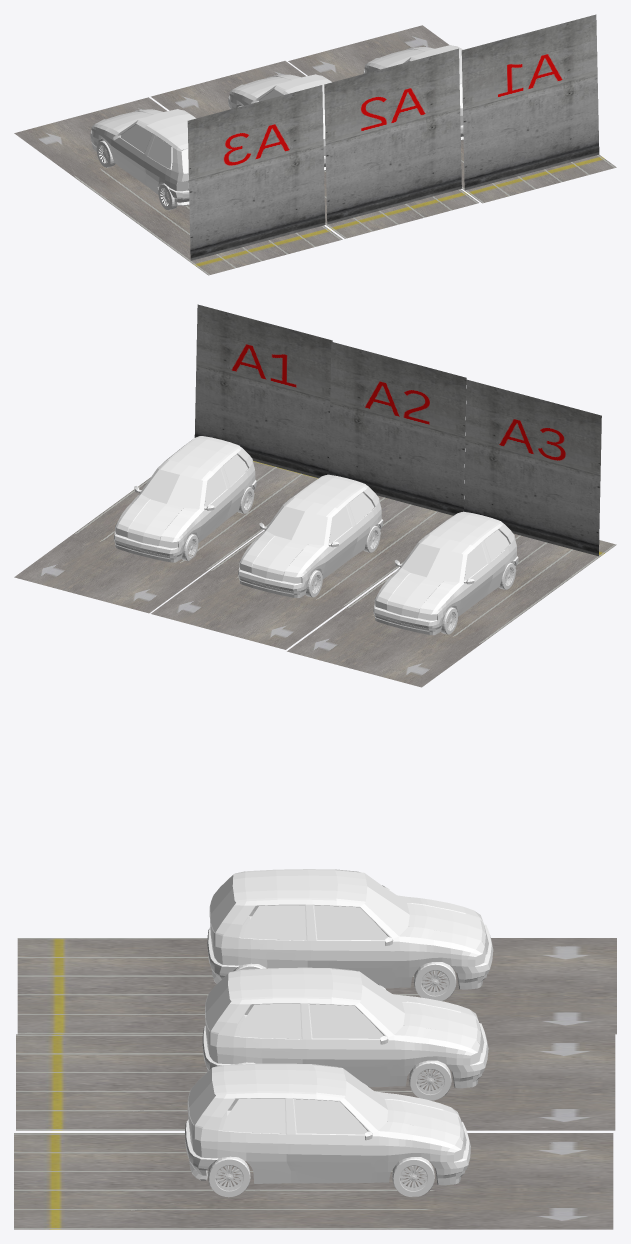
The model's file is smart.glb.
3 views of the same model, one above another, from view 1: azimuth 30°, elevation 25°; view 2: azimuth 150°, elevation 25°; view 3: azimuth 270°, elevation 25° (orthographic). The views are drawn at different scales.
Parts seen in each view (by area): view 1: Plane.006, Plane, FinestriniAnt_Plane.002, StopDX_Body_Plane.001, Circle_Circle.002; view 2: Plane.006, Plane, Circle_Circle.002, StopDX_Body_Plane.001, FinestriniAnt_Plane.002; view 3: Plane, Circle_Circle.002, FinestriniAnt_Plane.002, StopDX_Body_Plane.001, VetroPost_Plane.006.
Part boxes in pixels (<box>): Plane.006: <box>187,14,599,260</box>; Plane: <box>14,25,616,275</box>; FinestriniAnt_Plane.002: <box>90,109,196,210</box>; StopDX_Body_Plane.001: <box>228,74,331,170</box>; Circle_Circle.002: <box>363,45,463,140</box>; Plane.006: <box>194,304,601,556</box>; Plane: <box>14,461,616,687</box>; Circle_Circle.002: <box>113,436,256,562</box>; StopDX_Body_Plane.001: <box>238,474,383,597</box>; FinestriniAnt_Plane.002: <box>373,511,518,635</box>; Plane: <box>14,938,616,1229</box>; Circle_Circle.002: <box>185,1063,470,1197</box>; FinestriniAnt_Plane.002: <box>207,869,493,1000</box>; StopDX_Body_Plane.001: <box>202,967,488,1100</box>; VetroPost_Plane.006: <box>188,1069,215,1124</box>.
Bounding box in the file's own units: 36.55 × 12.93 × 30.18.
Materials: 19 (4 with a texture image).
